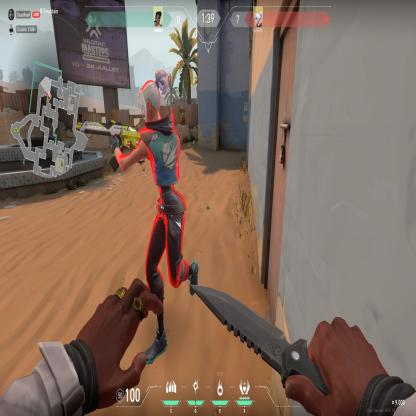enemy: (132, 69, 200, 372)
